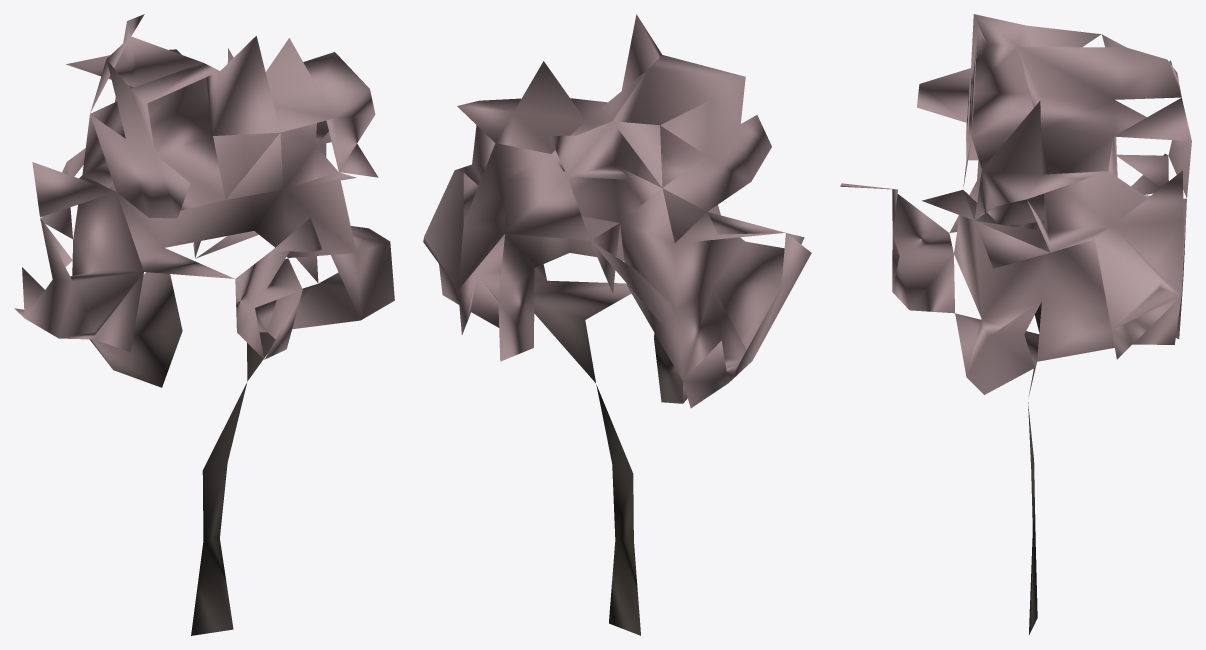
Rendered from sakura_b.3.glb.
3 views of the same model, side by side, from view 1: azimuth 30°, elevation 25°; view 2: azimuth 150°, elevation 25°; view 3: azimuth 270°, elevation 25° (orthographic). The views are drawn at different scales.
Visible parts, largest first — view 1: lod; view 2: lod; view 3: lod.
Boxes of the visible parts, <box> form: lod: <box>14,14,394,635</box>; lod: <box>423,14,811,635</box>; lod: <box>840,14,1191,634</box>.
Size of the model in its own units: 0.5236 by 0.9384 by 0.4937.
